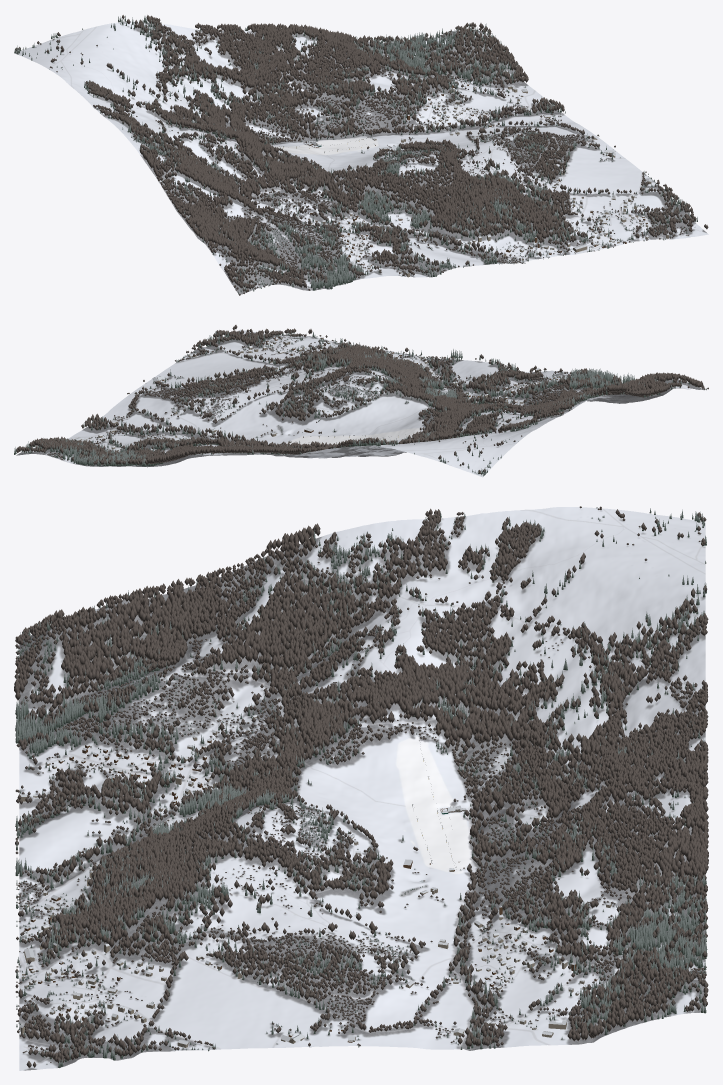
Rendered from opalena-zima.glb.
3 renders of one model, top to bottom at view 1: azimuth 30°, elevation 25°; view 2: azimuth 150°, elevation 25°; view 3: azimuth 270°, elevation 25°, orthographic. The views are drawn at different scales.
Parts seen in each view (by area): view 1: Trees.001, Terrain.001, Buildings; view 2: Trees.001, Terrain.001, Buildings; view 3: Trees.001, Terrain.001, Buildings.
Part boxes in pixels (x1,y1,x2,y2): Trees.001: (14, 15, 708, 295); Terrain.001: (15, 21, 708, 294); Buildings: (277, 70, 668, 277); Trees.001: (14, 325, 708, 476); Terrain.001: (16, 329, 706, 477); Buildings: (74, 330, 560, 451); Trees.001: (14, 506, 708, 1067); Terrain.001: (19, 507, 705, 1070); Buildings: (18, 715, 611, 1047).
Size of the model in its own units: 1615 by 471 by 1343.
2 materials, 1 textured.
